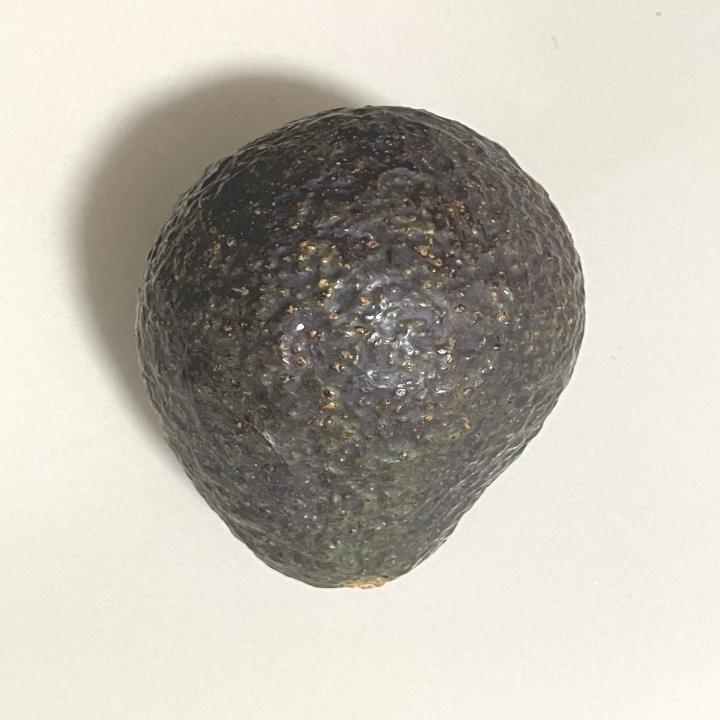Level1: (119, 91, 605, 602)
